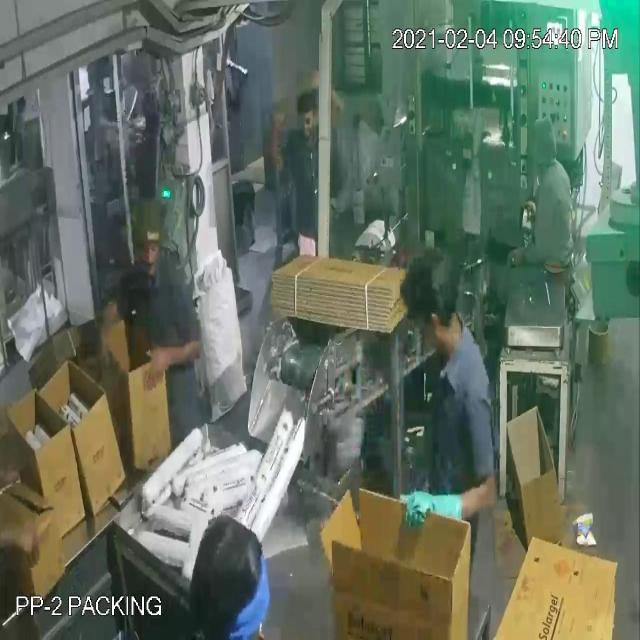gloves: (396, 473, 470, 564)
no-gloves: (130, 313, 222, 398), (90, 291, 130, 389), (1, 510, 49, 569), (266, 94, 299, 177), (309, 57, 341, 139), (498, 238, 544, 281)
